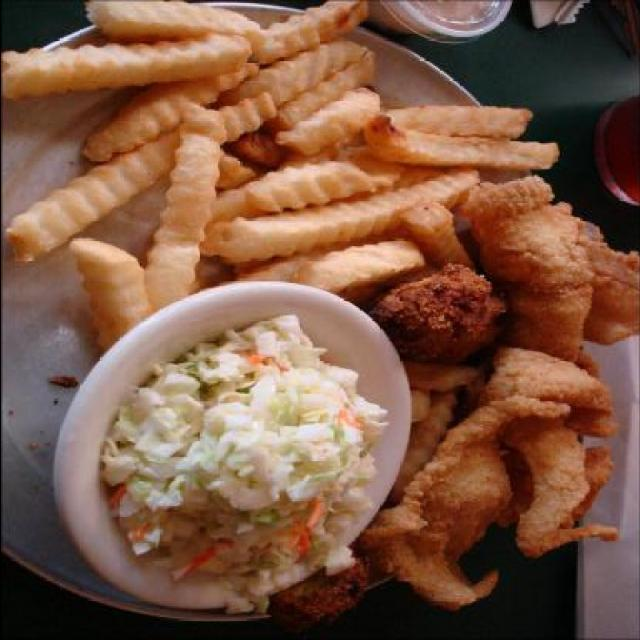French fries: (2, 97, 278, 243), (197, 160, 489, 256), (141, 128, 230, 326), (85, 64, 267, 160), (200, 152, 409, 228), (2, 34, 258, 96), (204, 233, 432, 296), (350, 114, 564, 180), (58, 234, 147, 356), (220, 35, 358, 113), (243, 0, 375, 68), (85, 0, 268, 49), (282, 83, 391, 152), (382, 102, 542, 140)
